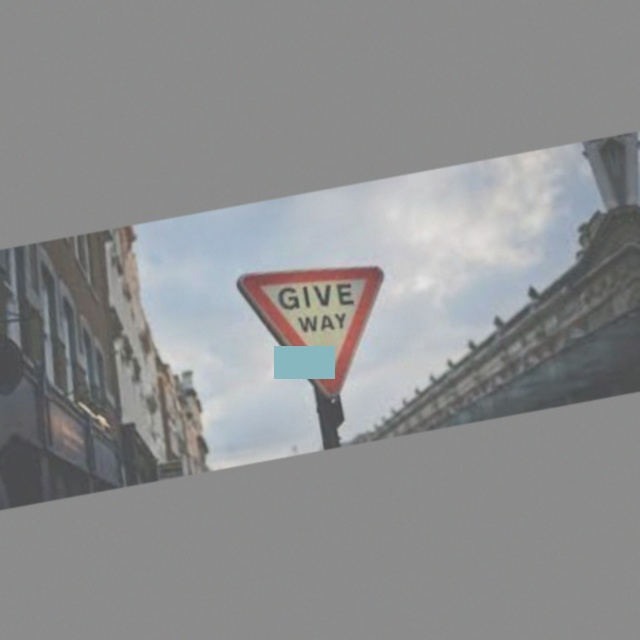Give_Way: (246, 249, 402, 405)
